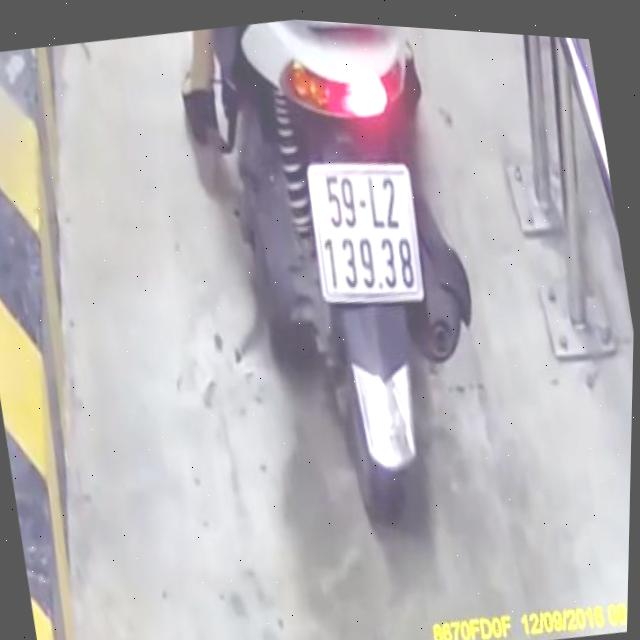motorcycle: (199, 14, 528, 560)
plate: (294, 141, 432, 324)
